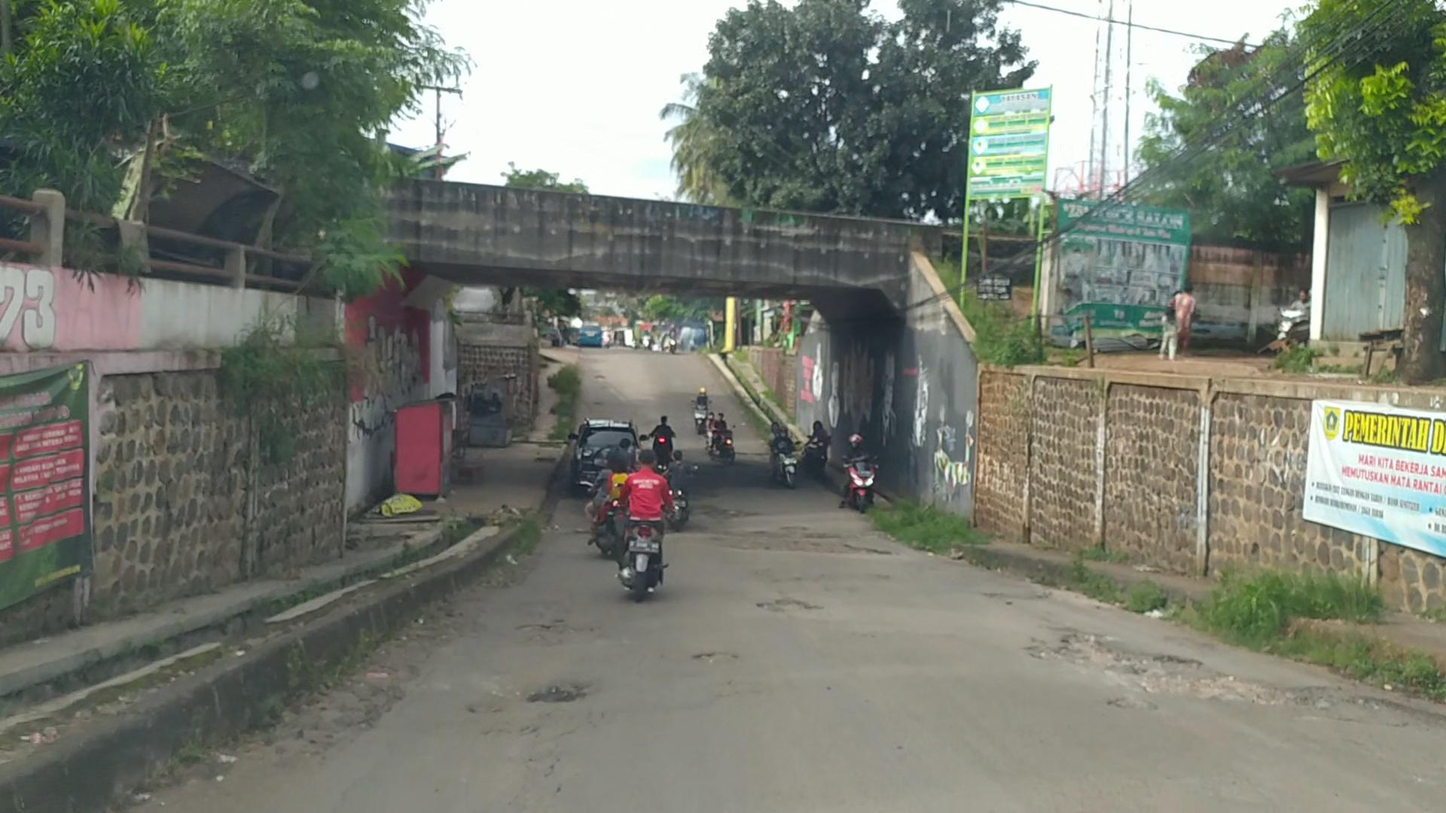pothole: (1030, 623, 1255, 705), (525, 683, 590, 709), (757, 595, 814, 611)
